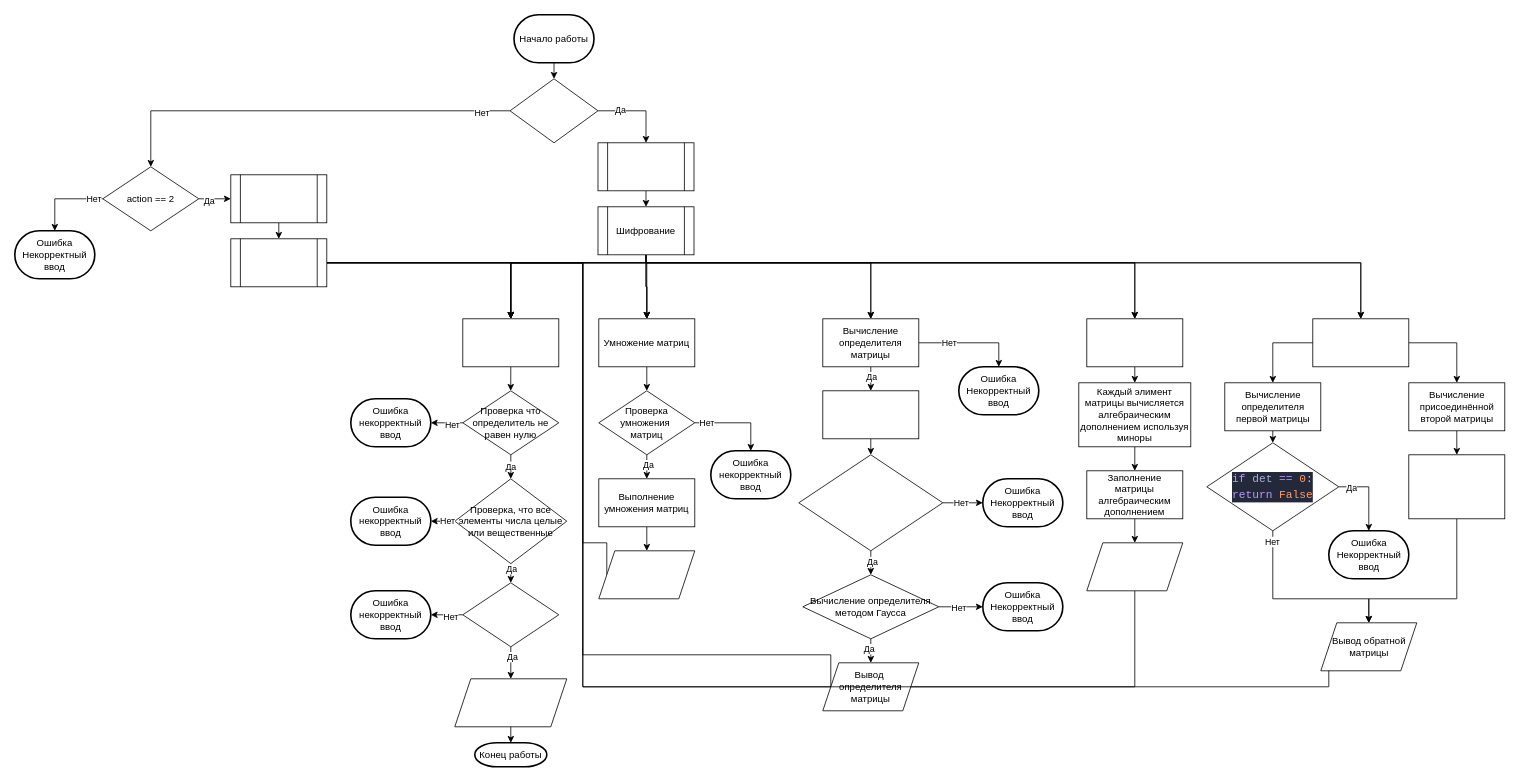
Image size: 1518x781. Some labels were removed from this diagram. Here are the shapes that lost their labels. From the top down, the centre of each, then its label:
At pixel 553 110: "action == 1".
At pixel 645 166: "Ввод и обработка текста".
At pixel 278 198: "Ввод текста".
At pixel 278 262: "Расшифрование".
At pixel 510 342: "Проверка ключа и параметров матрицы".
At pixel 1134 342: "Построение присоединённой матрицы".
At pixel 1360 342: "Обратная матрица".
At pixel 870 414: "Процесс приведения матрицы к треугольному виду".
At pixel 870 502: "Выбор максимального элемента в текущем столбце".
At pixel 1456 486: "Деление каждого элемента присоединённой матрицы на определитель".
At pixel 646 574: "Вывод умноженых матриц".
At pixel 1134 566: "Вывод присоединёной матрицы".
At pixel 510 614: "Проверка что матрицы 3х3".
At pixel 510 702: "Вывод результата работы алгоритма".
